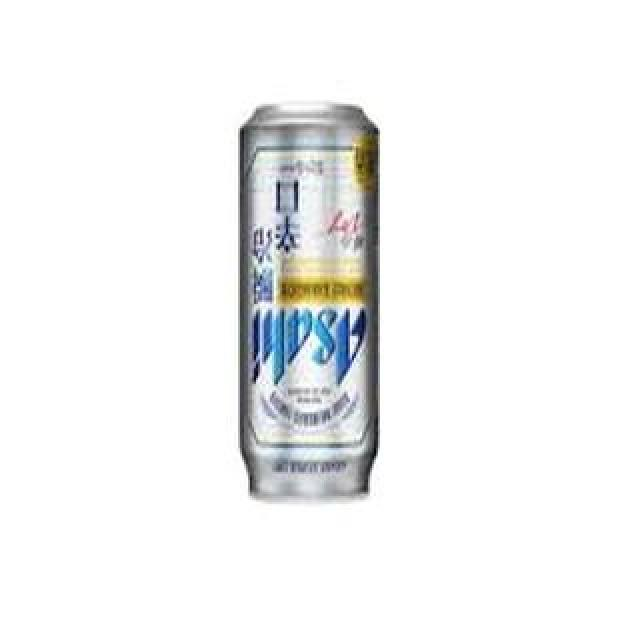Can: (214, 95, 396, 509)
